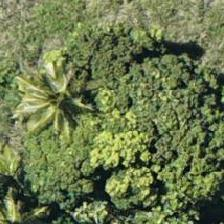coconut_tree: (15, 43, 105, 133), (0, 177, 48, 223)
